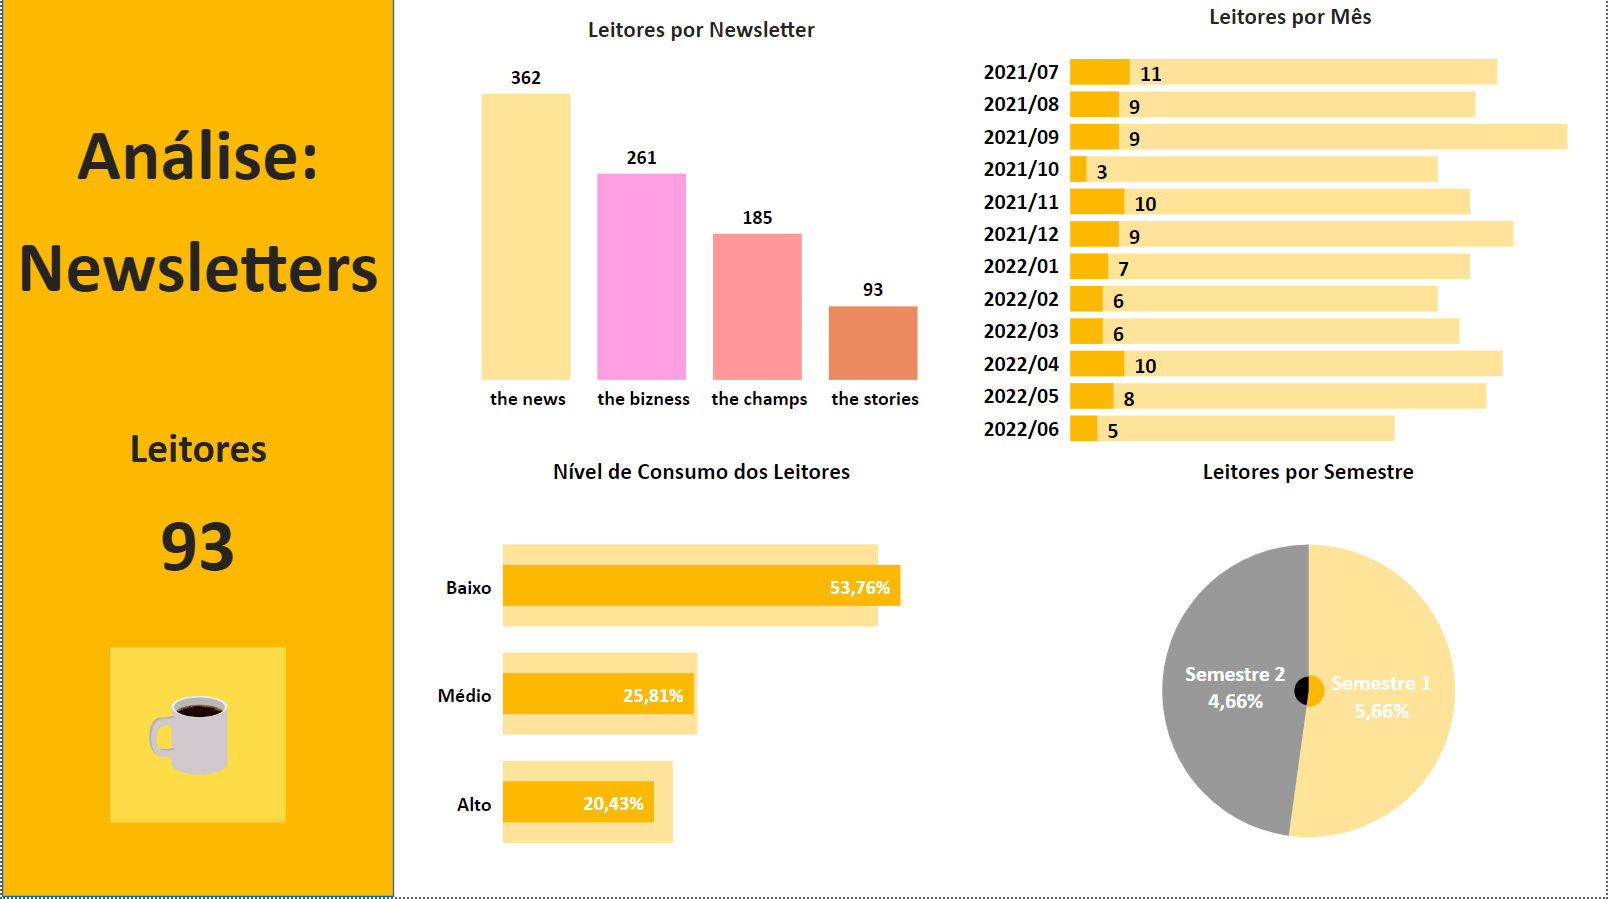

Layout of this report page (visuals, bound fields, positions):
{"tool":"powerbi","page":{"name":"Newsletters","canvas":[1280,720],"ordinal":1},"visuals":[{"type":"clusteredColumnChart","title":"Leitores por Newsletter","fields":{"Category":["dados_limpos.Newsletter"],"Y":["CountNonNull(dados_limpos.codigo)"]},"box":[340.6,15.2,435.2,325.4],"z":0},{"type":"clusteredBarChart","title":"Leitores por Mês","fields":{"Category":["dados_limpos.lastOpened.Variation.Hierarquia de datas.Mês"],"Y":["CountNonNull(dados_limpos.codigo)"]},"box":[811.3,5.1,469,367.6],"z":1000},{"type":"clusteredBarChart","title":"Nível de Consumo dos Leitores","fields":{"Y":["CountNonNull(dados_limpos.codigo)"],"Category":["dados_limpos.Consumo"]},"box":[340.6,367.6,435.2,352.4],"z":2000},{"type":"pieChart","title":"Leitores por Semestre","fields":{"Category":["dados_limpos.Semestre"],"Y":["CountNonNull(dados_limpos.codigo)"]},"box":[811.3,367.6,463.9,352.4],"z":3000},{"type":"shape","box":[0,0,312.7,720],"z":3500},{"type":"textbox","box":[0,86.3,313.1,206.1],"z":4000},{"type":"card","title":"Leitores","fields":{"Values":["CountNonNull(dados_limpos.codigo)"]},"box":[0,340.7,313.1,143.2],"z":4001},{"type":"image","box":[81.1,487.6,150.4,206.2],"z":4002}]}

Visuals, with their boxes in screenshot pixels (x1, y1, x2, y2), scaled from the page's 1280x720 canvas onto the 1609x899 screenshot:
"Leitores por Newsletter" clusteredColumnChart: {"x1": 428, "y1": 19, "x2": 975, "y2": 425}
"Leitores por Mês" clusteredBarChart: {"x1": 1020, "y1": 6, "x2": 1608, "y2": 465}
"Nível de Consumo dos Leitores" clusteredBarChart: {"x1": 428, "y1": 459, "x2": 975, "y2": 898}
"Leitores por Semestre" pieChart: {"x1": 1020, "y1": 459, "x2": 1603, "y2": 898}
shape: {"x1": 0, "y1": 0, "x2": 393, "y2": 898}
textbox: {"x1": 0, "y1": 108, "x2": 394, "y2": 365}
"Leitores" card: {"x1": 0, "y1": 425, "x2": 394, "y2": 604}
image: {"x1": 102, "y1": 609, "x2": 291, "y2": 866}
